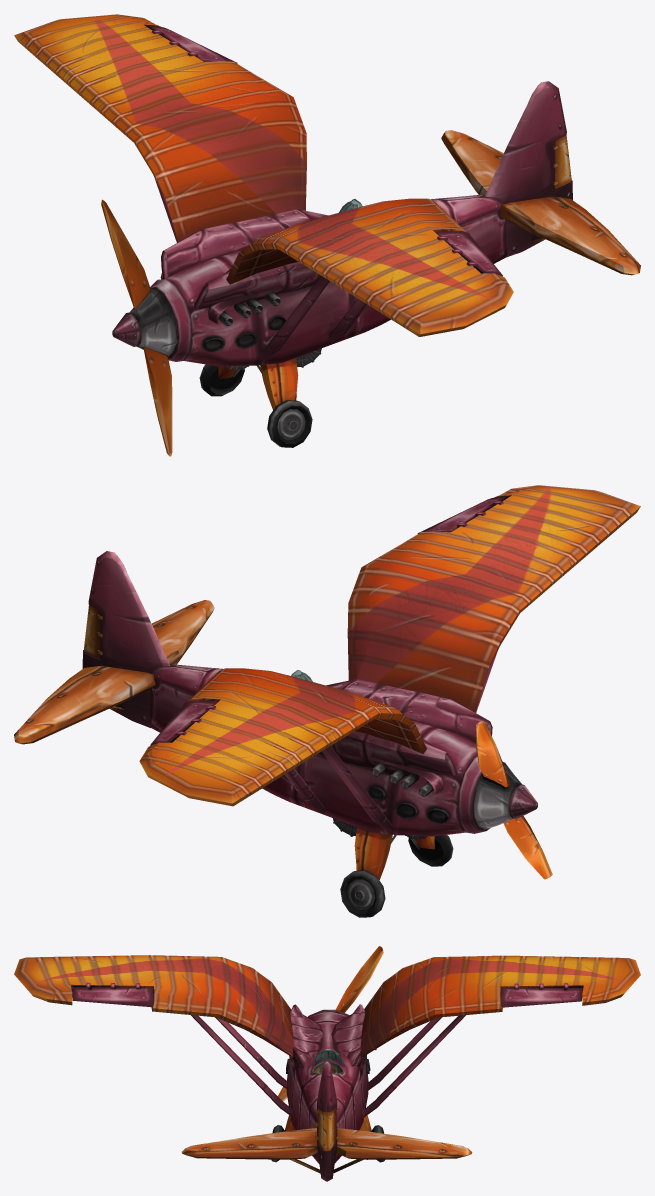
File: flyingPlane.glb
3 renders of one model, top to bottom at view 1: azimuth 30°, elevation 25°; view 2: azimuth 150°, elevation 25°; view 3: azimuth 270°, elevation 25°, orthographic. The views are drawn at different scales.
Parts seen in each view (by area): view 1: polySurface9, polySurface6; view 2: polySurface9, polySurface6; view 3: polySurface9, polySurface6.
Part boxes in pixels (x1,y1,x2,y2): polySurface9: [14, 14, 640, 447]; polySurface6: [101, 199, 177, 456]; polySurface9: [14, 485, 640, 917]; polySurface6: [474, 721, 552, 879]; polySurface9: [14, 955, 640, 1181]; polySurface6: [278, 946, 383, 1101].
Size of the model in its own units: 0.7973 by 0.45 by 1.25.
Materials: 1 (1 with a texture image).
